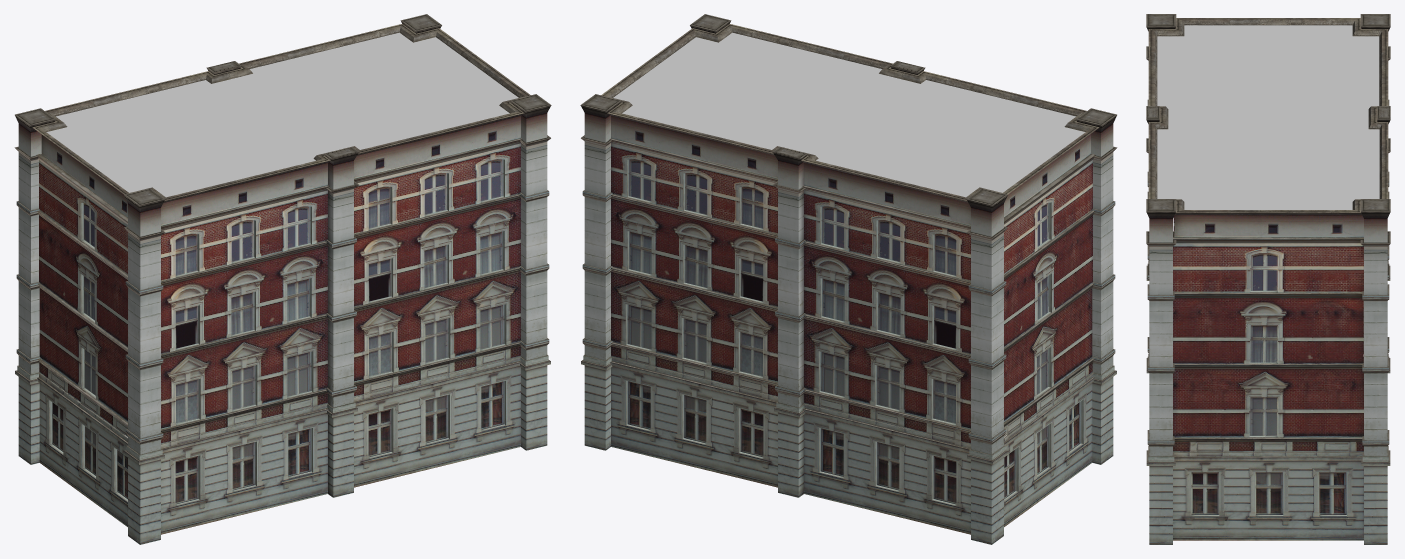
Rendered from Euro_v7_1.FBX.
3 renders of one model, left to right at view 1: azimuth 30°, elevation 25°; view 2: azimuth 150°, elevation 25°; view 3: azimuth 270°, elevation 25°, orthographic.
Visible parts, largest first — view 1: Euro_v7_1, Euro_v7_1_Roof_floor; view 2: Euro_v7_1, Euro_v7_1_Roof_floor; view 3: Euro_v7_1, Euro_v7_1_Roof_floor.
Boxes of the visible parts, <box> form: Euro_v7_1: <box>14,14,551,544</box>; Euro_v7_1_Roof_floor: <box>46,32,518,197</box>; Euro_v7_1: <box>580,14,1117,544</box>; Euro_v7_1_Roof_floor: <box>613,32,1085,197</box>; Euro_v7_1: <box>1146,14,1390,544</box>; Euro_v7_1_Roof_floor: <box>1157,25,1379,209</box>.
Bounding box in the file's own units: 24.08 × 19.02 × 12.59.
